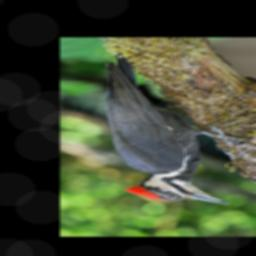Woodpecker: (91, 51, 247, 206)
